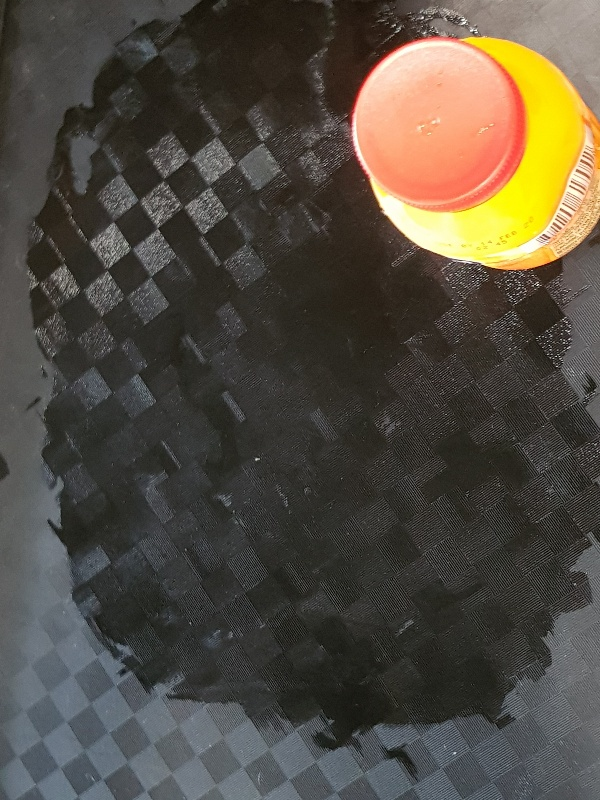Sunkist Orange Juice Drink: (351, 36, 600, 272)
